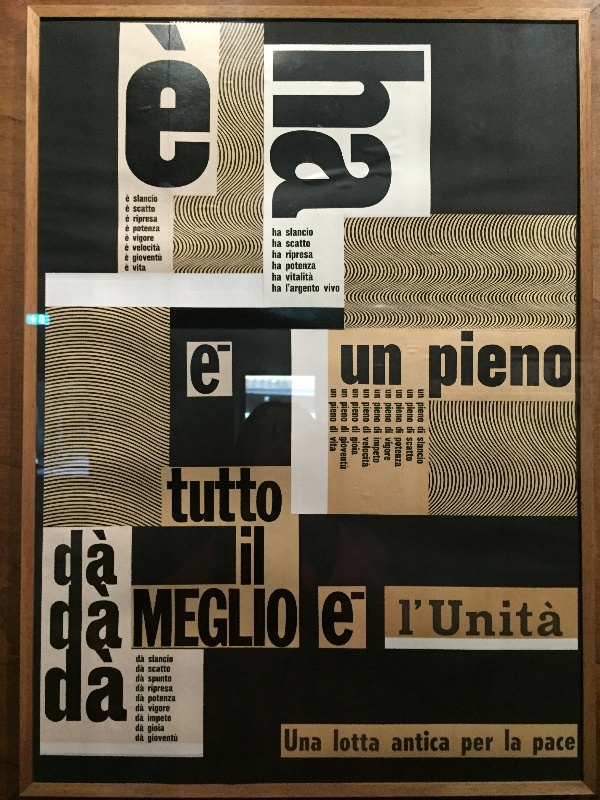text: (273, 51, 288, 224), (289, 51, 304, 224), (305, 51, 320, 224), (321, 51, 336, 224), (337, 51, 352, 224), (353, 51, 368, 224), (369, 51, 384, 224), (385, 51, 400, 224), (401, 51, 416, 224), (129, 23, 144, 189), (145, 23, 160, 189), (161, 23, 176, 189), (177, 23, 192, 189), (193, 23, 208, 189), (417, 51, 426, 224), (113, 650, 129, 726), (49, 650, 64, 726), (65, 650, 80, 726), (81, 650, 96, 726), (97, 650, 112, 726), (433, 330, 448, 400), (449, 330, 464, 400), (465, 330, 480, 400), (481, 330, 496, 400), (497, 330, 512, 400), (513, 330, 528, 400), (529, 330, 544, 400), (545, 330, 560, 400), (65, 585, 80, 651), (81, 585, 96, 651), (97, 585, 112, 651), (145, 589, 160, 650), (161, 589, 176, 650), (177, 589, 192, 650), (193, 589, 208, 650), (209, 589, 224, 650), (225, 589, 240, 650), (241, 589, 256, 650), (257, 589, 272, 650), (273, 589, 288, 650), (241, 526, 256, 586), (65, 529, 80, 588), (81, 529, 96, 588), (97, 529, 112, 588), (337, 591, 352, 649), (177, 468, 192, 525), (193, 468, 208, 525), (209, 468, 224, 525), (225, 468, 240, 525), (241, 468, 256, 525), (257, 468, 272, 525), (322, 591, 336, 649), (193, 343, 208, 397), (209, 343, 224, 397), (52, 585, 64, 651), (113, 585, 125, 651), (561, 330, 572, 400), (353, 591, 365, 649), (353, 344, 368, 387), (369, 344, 384, 387), (385, 344, 400, 387), (134, 589, 144, 650), (433, 599, 448, 638), (449, 599, 464, 638), (465, 599, 480, 638), (481, 599, 496, 638), (497, 599, 512, 638), (513, 599, 528, 638), (529, 599, 544, 638), (545, 599, 560, 638), (401, 600, 416, 636), (167, 468, 176, 525), (273, 468, 282, 525), (209, 23, 212, 189), (289, 589, 297, 650), (257, 526, 265, 586), (341, 344, 352, 387), (339, 436, 352, 469), (57, 529, 64, 588), (418, 437, 432, 464), (401, 728, 416, 753), (417, 728, 432, 753), (433, 728, 448, 753), (289, 729, 304, 753), (305, 729, 320, 753), (337, 729, 352, 753), (353, 729, 368, 753), (113, 529, 119, 588), (225, 343, 231, 397), (545, 736, 560, 757), (561, 736, 576, 757), (465, 737, 480, 757), (374, 437, 384, 463), (481, 737, 494, 757), (369, 729, 379, 753), (340, 402, 352, 422), (372, 403, 384, 423), (533, 736, 544, 757), (405, 403, 416, 423), (407, 438, 416, 462), (385, 437, 393, 462), (513, 729, 521, 753), (417, 402, 426, 423), (289, 250, 304, 262), (394, 438, 400, 468), (289, 283, 304, 295), (417, 600, 422, 636), (385, 403, 394, 423), (393, 728, 400, 753), (271, 51, 272, 224), (305, 283, 319, 295), (505, 729, 512, 753), (289, 262, 304, 273), (161, 734, 176, 745), (353, 402, 361, 422), (363, 437, 368, 468), (145, 253, 160, 263), (273, 283, 288, 293), (145, 225, 161, 234), (145, 243, 161, 252), (145, 214, 158, 225), (430, 330, 432, 400), (386, 389, 400, 399), (329, 402, 336, 422), (289, 228, 304, 237), (161, 695, 176, 704), (289, 272, 304, 281), (273, 228, 288, 237), (273, 239, 288, 248), (273, 251, 288, 260), (273, 261, 288, 270), (353, 389, 368, 398), (305, 262, 317, 273), (149, 703, 160, 715), (148, 714, 160, 725), (148, 734, 160, 745), (161, 685, 174, 695), (353, 437, 360, 455), (418, 390, 432, 399), (133, 214, 144, 225), (133, 233, 144, 244), (149, 675, 160, 686), (161, 675, 172, 686), (161, 714, 172, 725), (289, 240, 304, 248), (148, 724, 160, 734), (362, 403, 368, 423), (394, 403, 400, 423), (145, 194, 158, 203), (429, 599, 432, 638), (561, 599, 564, 638), (149, 685, 160, 695), (133, 253, 144, 263), (305, 250, 314, 262), (161, 703, 170, 715), (132, 243, 144, 252), (132, 263, 144, 272), (324, 284, 336, 293), (385, 427, 400, 434), (330, 435, 336, 452), (149, 695, 160, 704), (145, 233, 154, 244), (418, 426, 432, 433), (161, 655, 173, 663), (148, 665, 160, 673), (134, 194, 144, 203), (134, 225, 144, 234), (375, 389, 384, 399), (342, 389, 352, 398), (149, 655, 160, 663), (133, 205, 144, 213), (273, 273, 282, 282), (407, 390, 416, 399), (145, 205, 155, 213), (161, 665, 171, 673), (341, 426, 352, 433), (47, 650, 48, 726), (305, 228, 313, 237), (305, 272, 313, 281), (136, 664, 144, 673), (136, 694, 144, 703), (285, 729, 288, 753), (136, 684, 144, 692), (136, 704, 144, 712), (136, 714, 144, 722), (136, 724, 144, 732), (136, 734, 144, 742), (137, 674, 144, 683), (407, 426, 416, 433), (369, 437, 371, 468), (401, 438, 403, 468), (369, 403, 372, 423), (401, 403, 404, 423), (374, 427, 384, 433), (137, 655, 144, 663), (331, 389, 336, 399), (353, 426, 360, 433), (305, 240, 311, 248), (334, 729, 336, 753), (401, 344, 402, 387), (161, 724, 165, 734), (462, 737, 464, 757), (364, 389, 368, 399), (337, 402, 339, 422), (350, 437, 352, 455), (399, 600, 400, 636), (396, 390, 400, 399), (363, 426, 368, 433), (331, 426, 336, 433), (396, 426, 400, 434), (285, 272, 288, 281), (337, 284, 340, 293), (449, 728, 450, 753), (286, 250, 288, 262), (286, 283, 288, 295), (321, 729, 322, 753), (401, 426, 404, 434), (286, 262, 288, 273), (125, 244, 128, 251), (125, 254, 128, 261), (351, 402, 352, 422), (383, 403, 384, 423), (126, 204, 128, 213), (286, 228, 288, 237), (145, 263, 147, 272), (337, 435, 338, 452), (126, 215, 128, 223), (126, 234, 128, 242), (126, 264, 128, 272), (286, 240, 288, 248), (126, 195, 128, 202), (126, 225, 128, 232), (369, 426, 371, 433), (177, 734, 178, 745), (161, 253, 162, 263), (369, 389, 370, 399), (129, 204, 130, 213), (401, 390, 402, 399), (129, 195, 130, 202), (337, 426, 338, 433)
